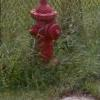Hydrant: (24, 1, 73, 71)
